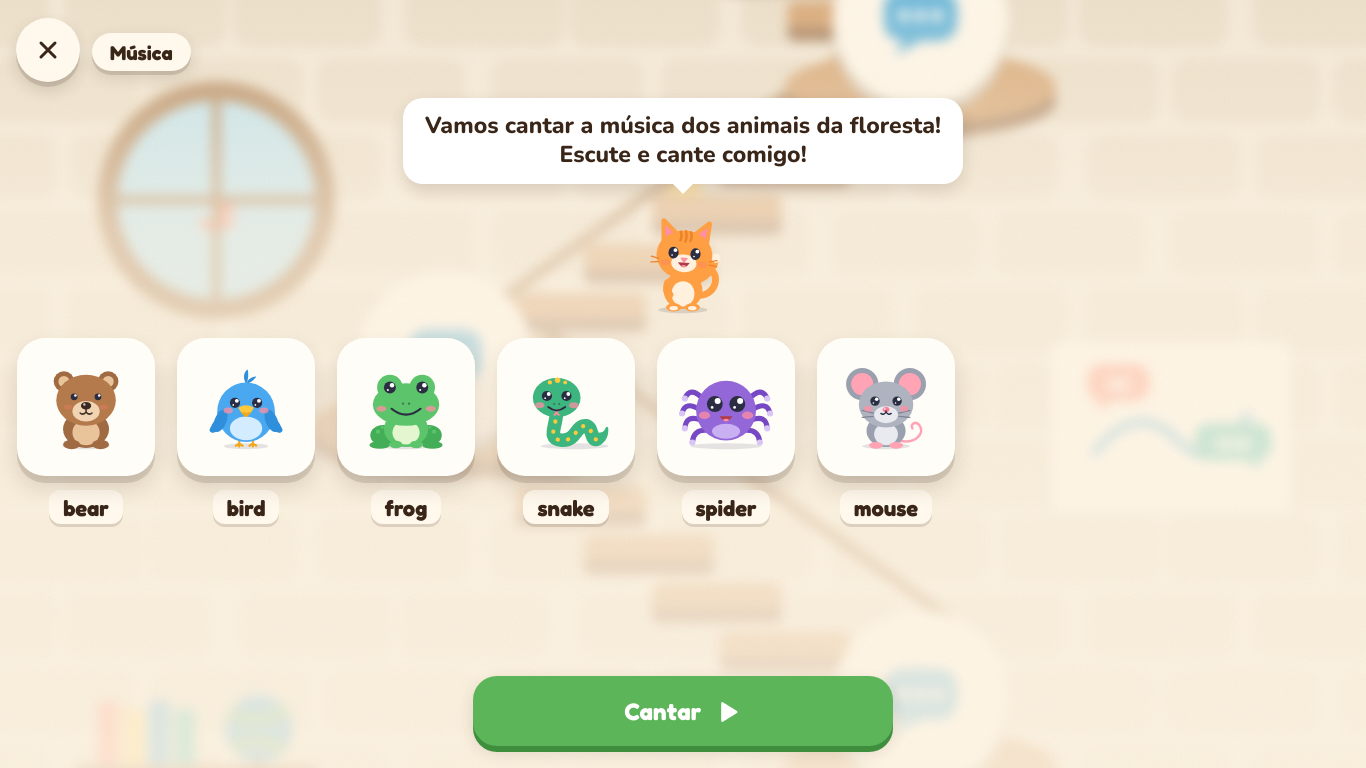
SongStop › says the opening, then plays the unit's song when ▶ is tapped
Click the button "Cantar" at (683, 711), box [473, 676, 893, 746]
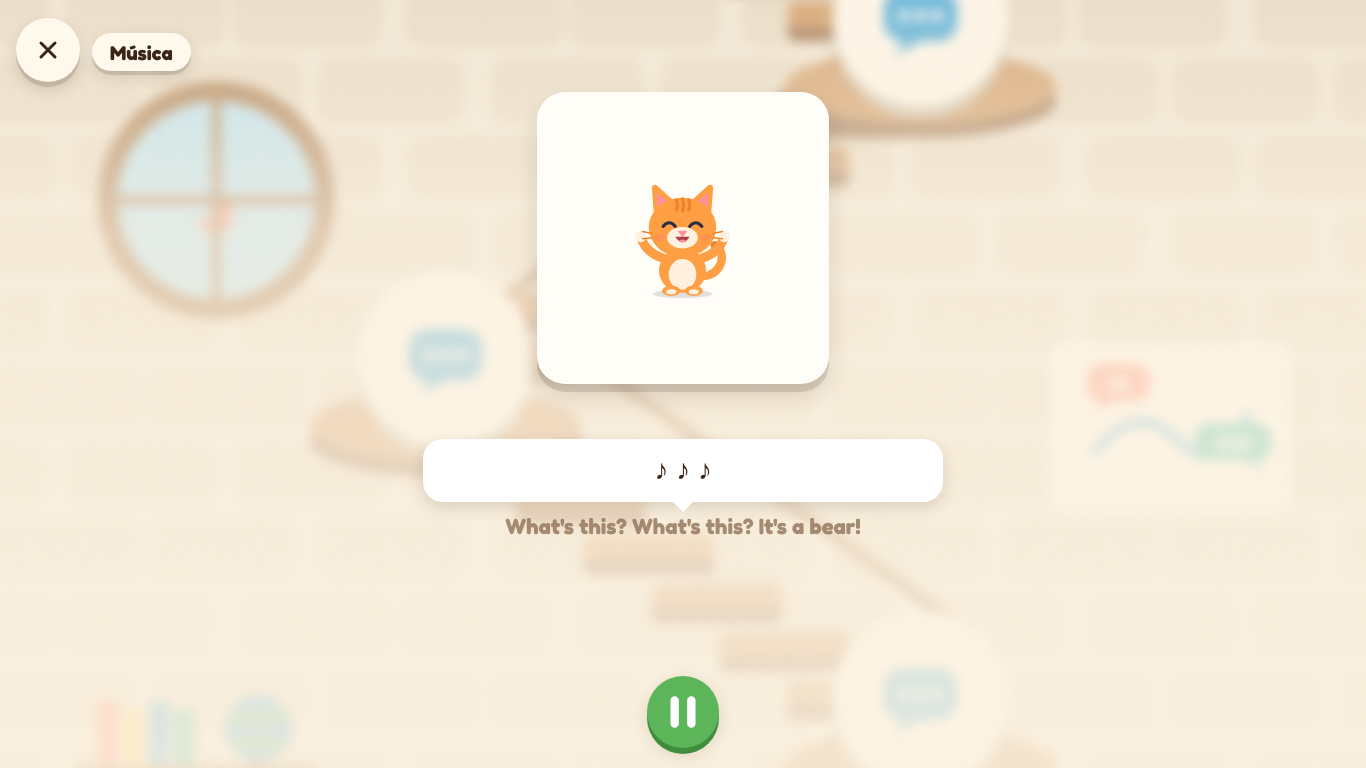
Check: the button named "Pausar" is shown, box [647, 676, 719, 748]
